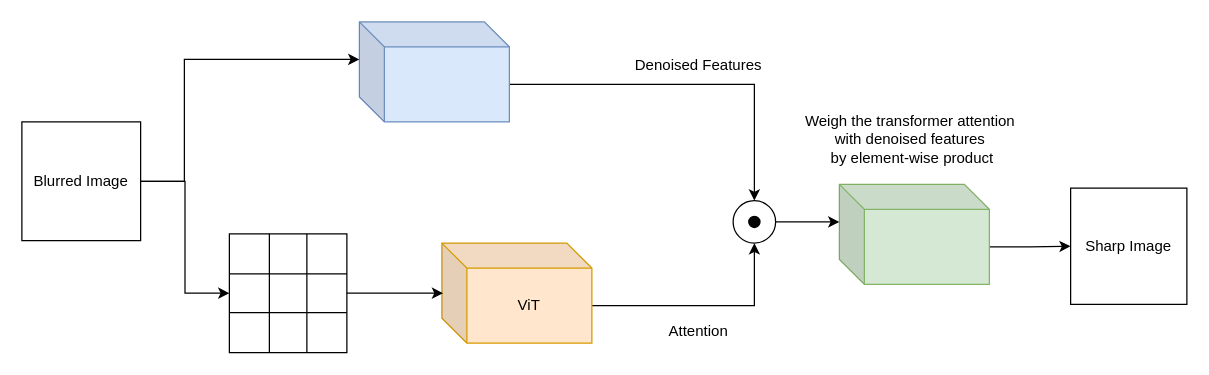
This 1209x375 diagram has some shape labels left out. Here are the shapes that lost their labels. From the top down, the box of each, then its label:
(358, 21, 509, 122): Convolutional Block
(838, 183, 989, 284): Reconstruction head
